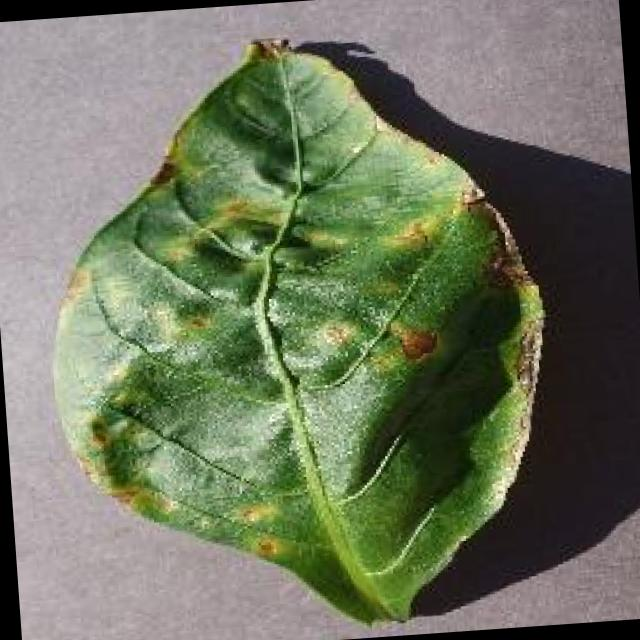Chilli_Bacterial_Spot: (25, 17, 568, 640), (230, 496, 287, 566), (378, 212, 436, 258), (478, 244, 524, 294), (296, 220, 351, 259), (393, 322, 441, 365), (314, 315, 358, 355), (232, 496, 280, 532), (171, 300, 216, 338), (242, 32, 294, 64), (80, 410, 114, 452), (455, 178, 490, 212), (247, 531, 279, 563)
